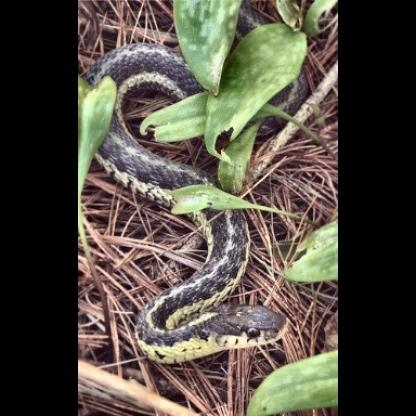Snake: (82, 39, 290, 365)
